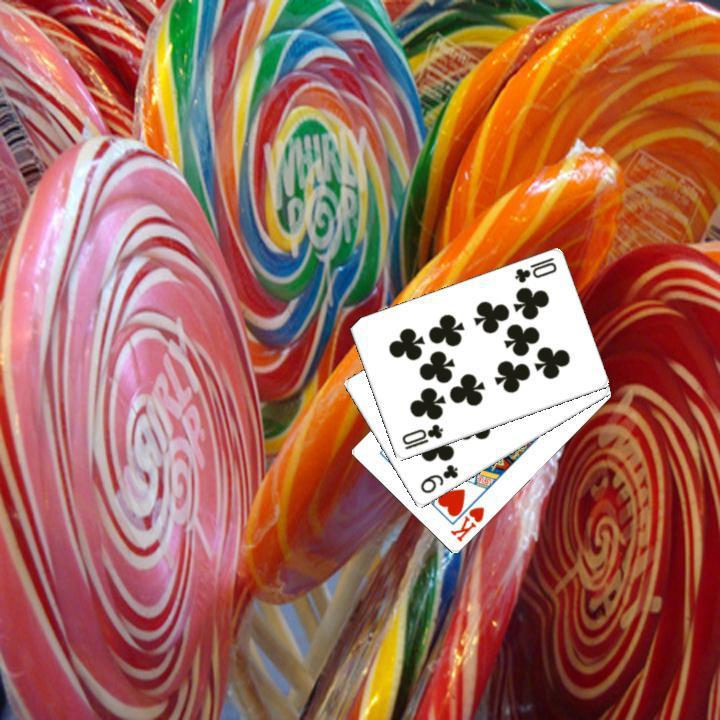10: (510, 253, 559, 285), (397, 420, 445, 452)
9: (416, 460, 460, 496)
K: (446, 502, 486, 544)
